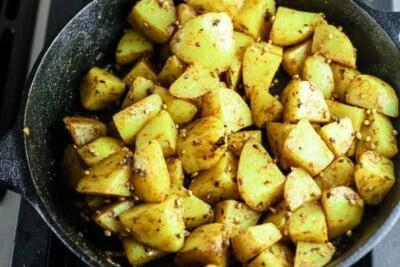AlooMasala: (63, 0, 400, 267)
